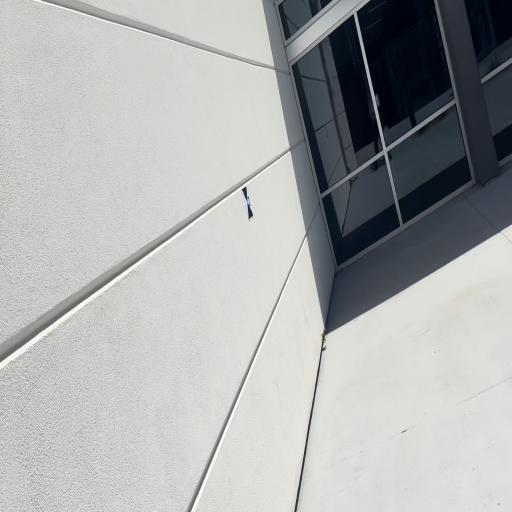target7: (242, 186, 254, 220)
